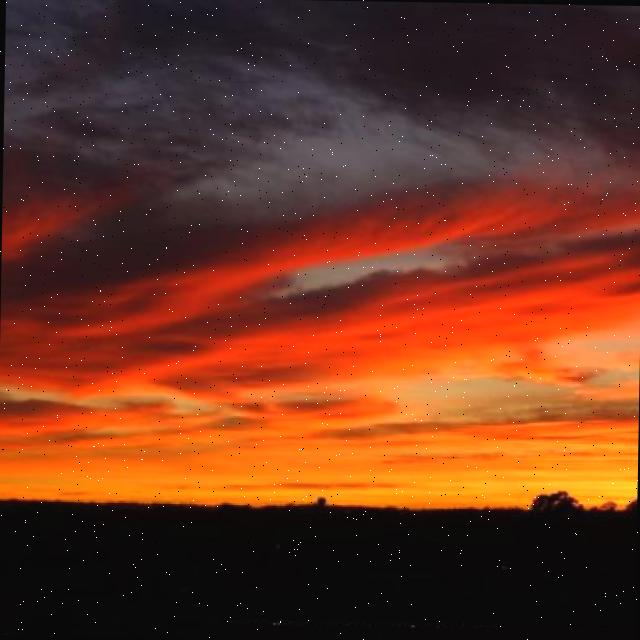As: (1, 1, 640, 458)
